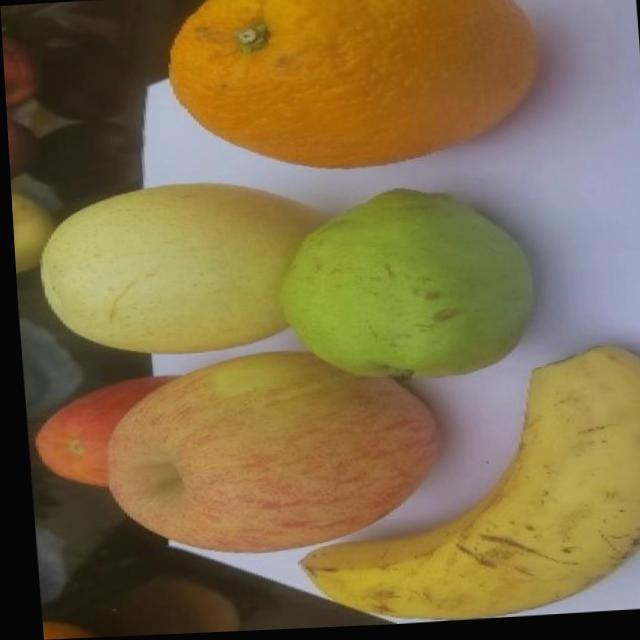Apple: (94, 344, 442, 563)
Banana: (278, 346, 640, 631)
Orange: (162, 0, 544, 179)
